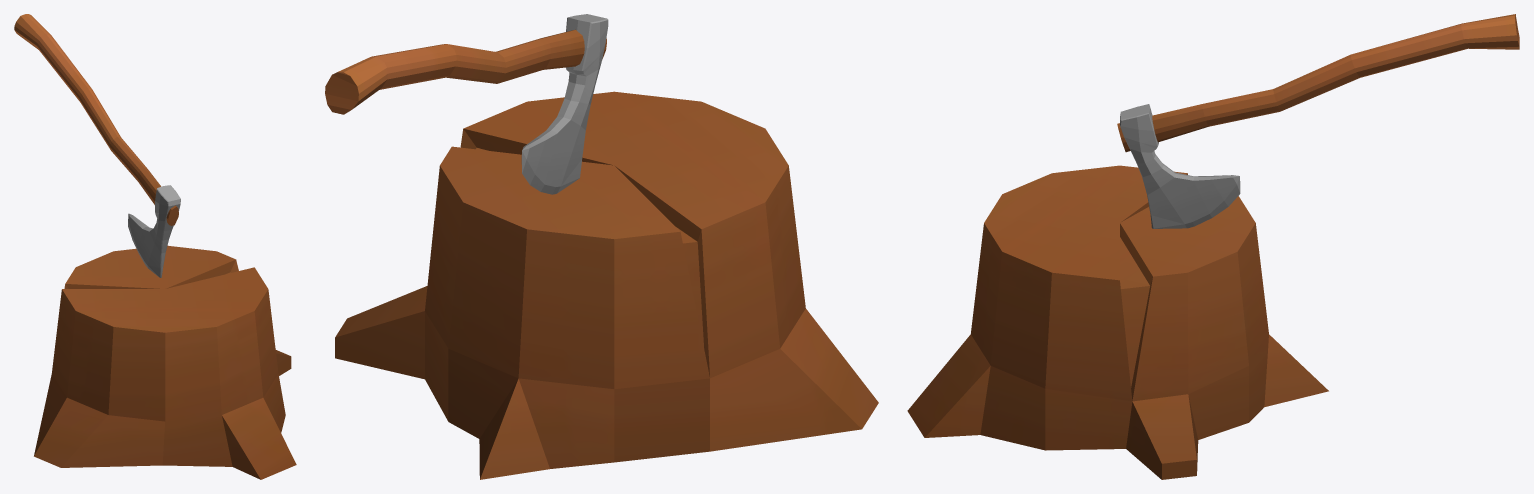
The model's file is stumpAxe.glb.
3 renders of one model, left to right at view 1: azimuth 30°, elevation 25°; view 2: azimuth 150°, elevation 25°; view 3: azimuth 270°, elevation 25°, orthographic. The views are drawn at different scales.
Parts seen in each view (by area): view 1: stumpAxe; view 2: stumpAxe; view 3: stumpAxe.
Part boxes in pixels (x1,y1,x2,y2): stumpAxe: [14, 14, 296, 479]; stumpAxe: [325, 14, 878, 479]; stumpAxe: [907, 14, 1519, 479].
Bounding box in the file's own units: 1.33 × 1.35 × 1.9.
1 material, 1 textured.
